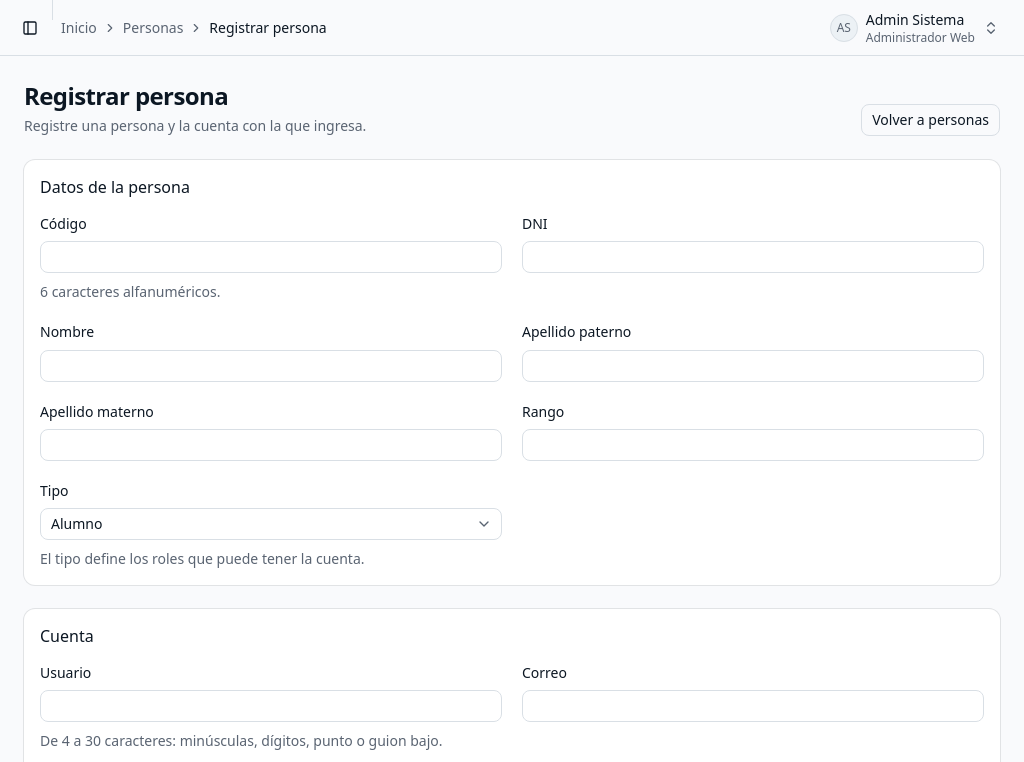
it: Registrar persona › CA-PER-02 valida el formato del código, el DNI, el usuario y la contraseña repetida
Step 1. Type "12" into the field labelled "Código" → (271, 257), box [40,241,502,273]
Step 2. Type "123" into the field labelled "DNI" → (753, 257), box [522,241,984,273]
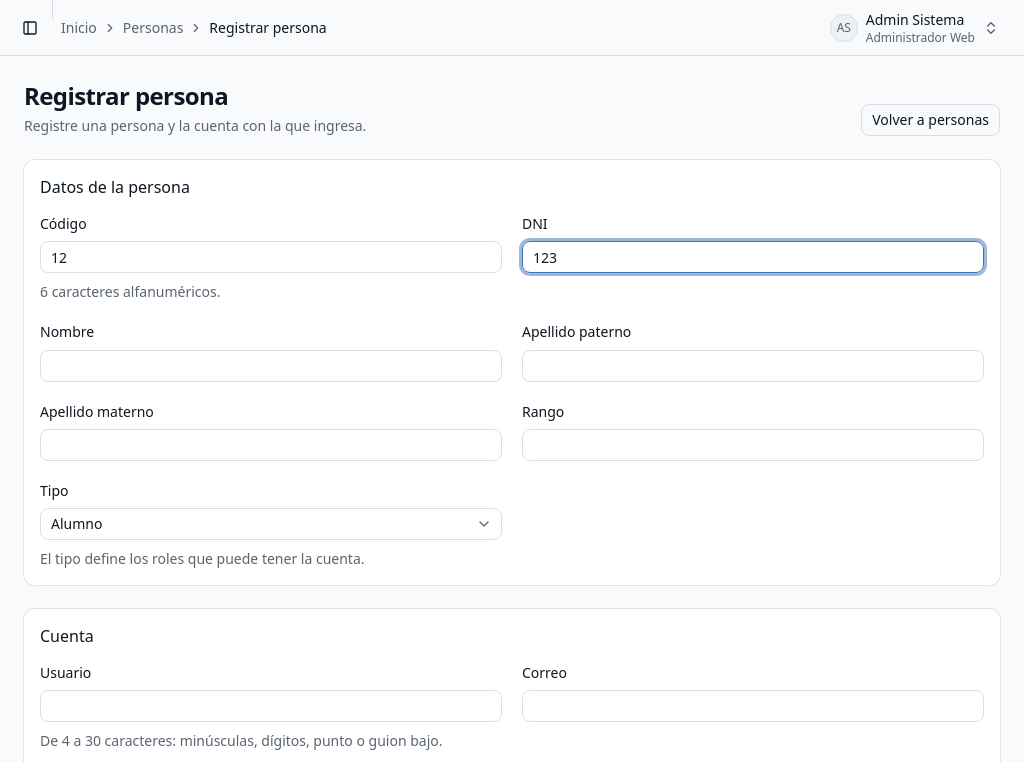
Step 3. Type "Rosa Quispe" into the field labelled "Usuario" → (271, 706), box [40,690,502,722]
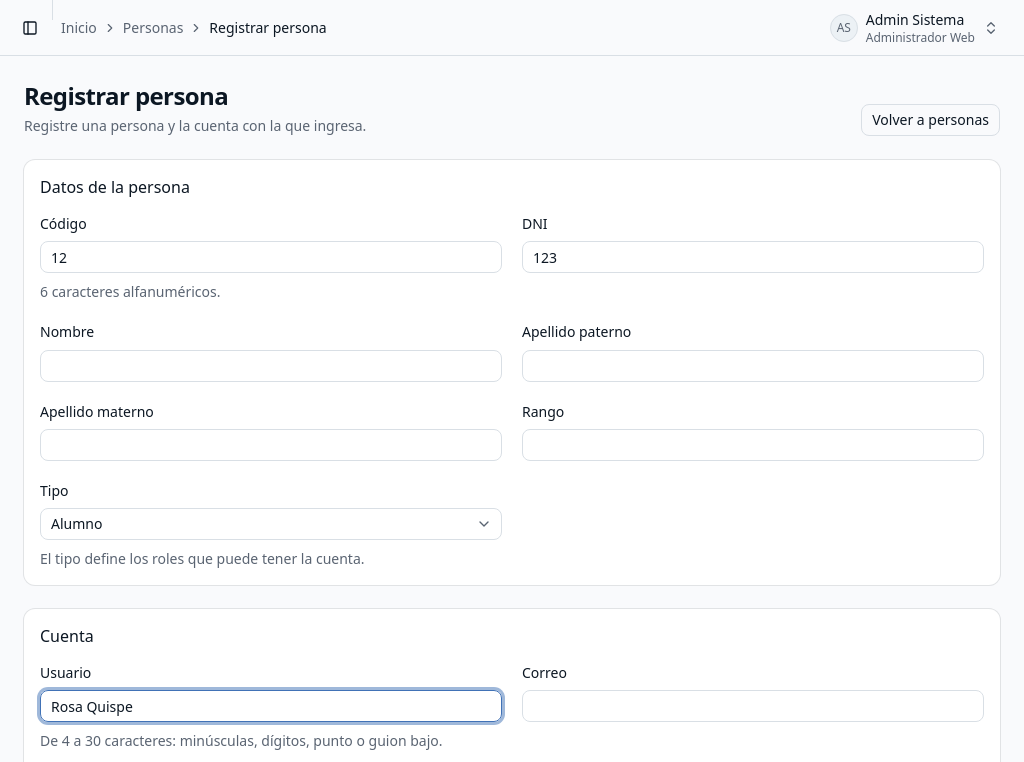
Step 4. Type "rosa" into the field labelled "Correo" → (753, 706), box [522,690,984,722]
(page scrolled)
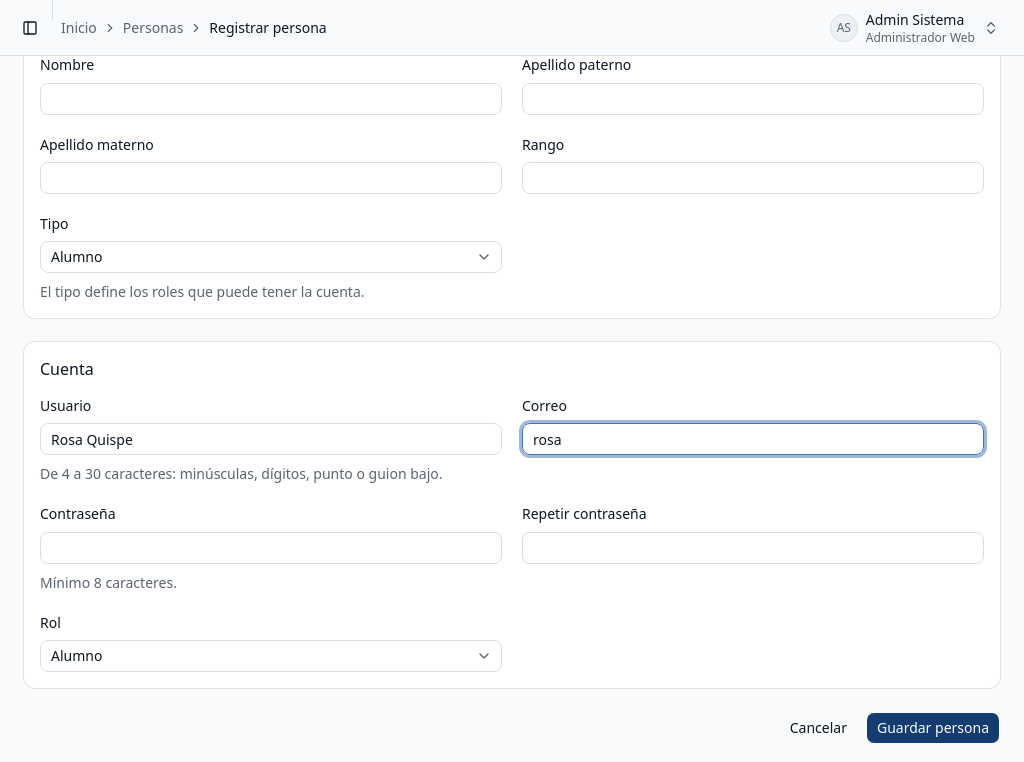
Step 5. Type "Cambio2026" into the password field labelled "Contraseña" → (271, 548), box [40,532,502,564]
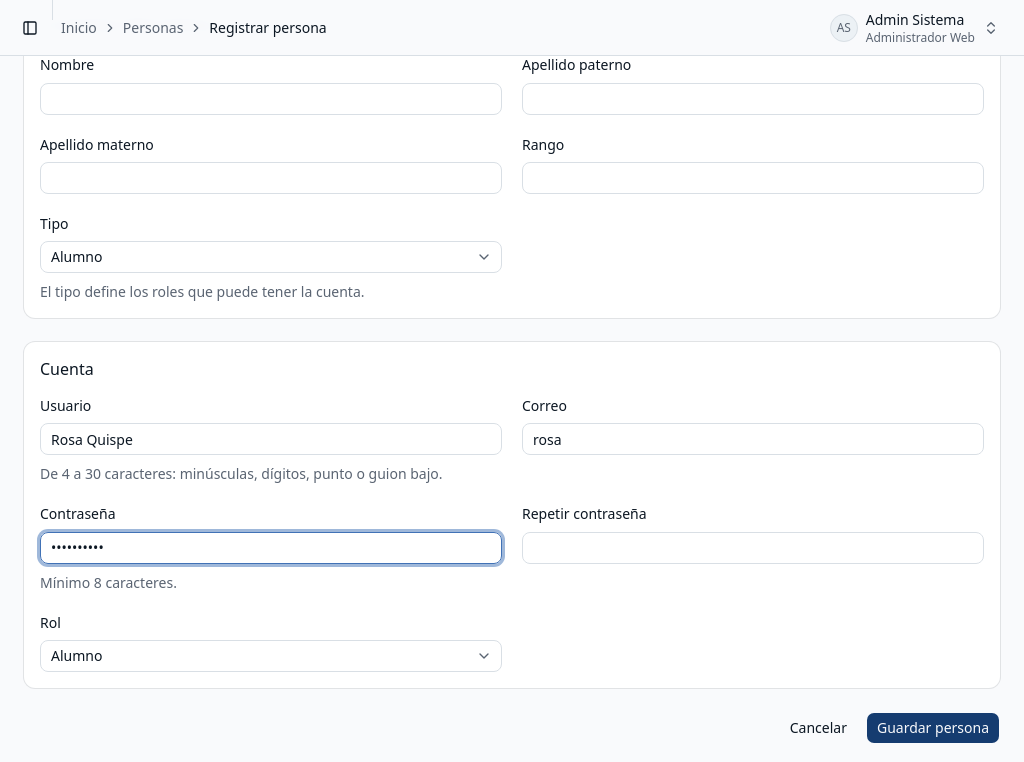
Step 6. Type "otra-clave" into the password field labelled "Repetir contraseña" → (753, 548), box [522,532,984,564]
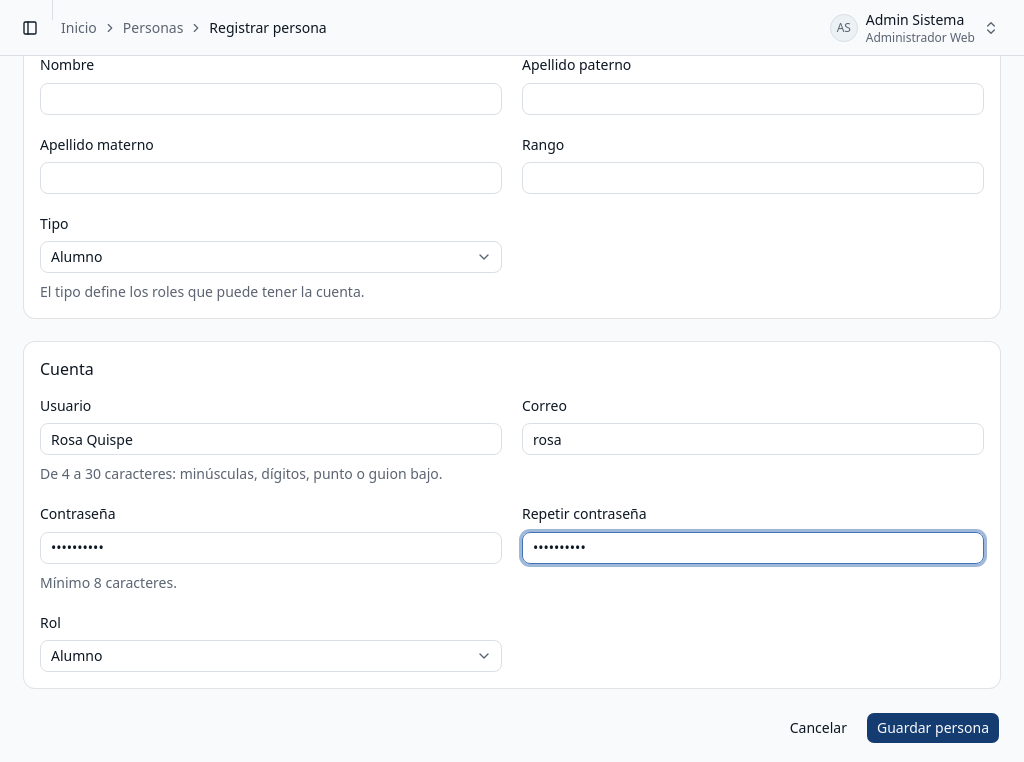
Step 7. Click the button "Guardar persona" → (933, 728), box [866,712,1000,744]
(page scrolled)
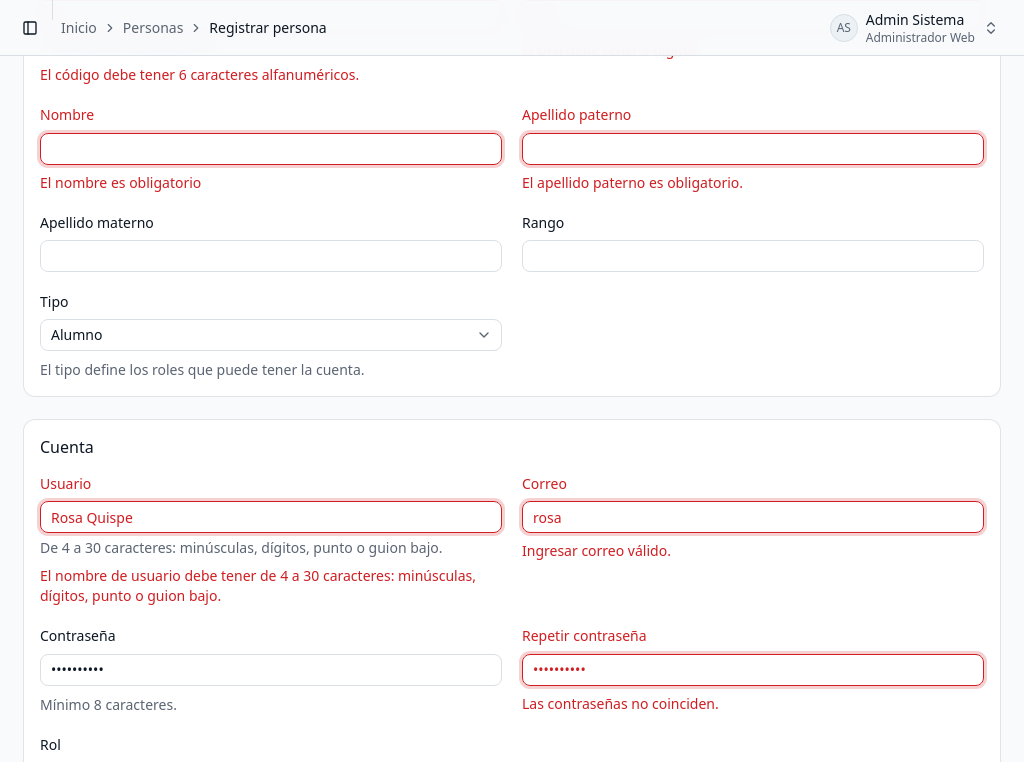
Result: the text "El código debe tener 6 caracteres alfanuméricos." is shown at [40,65,359,84]
Result: the text "El DNI debe tener 8 dígitos." is shown at [522,40,702,59]
Result: the text "El nombre de usuario debe tener de 4 a 30 caracteres: minúsculas, dígitos, punto o guion bajo." is shown at [40,566,476,605]
